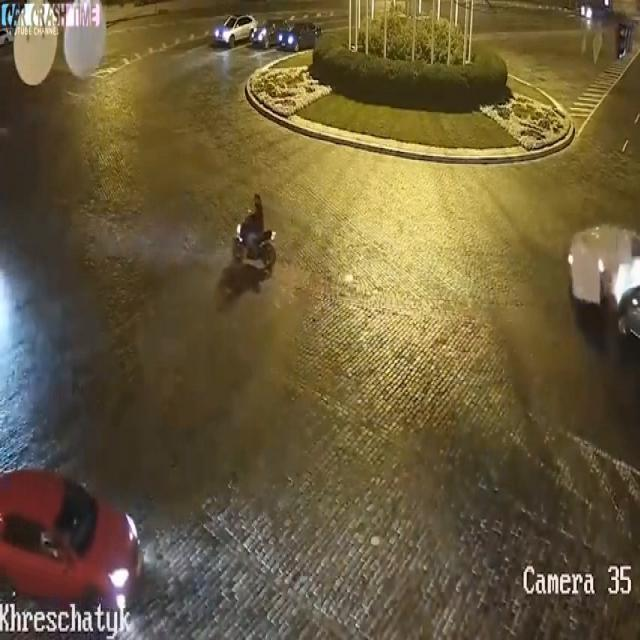Accident: (573, 187, 640, 435)
